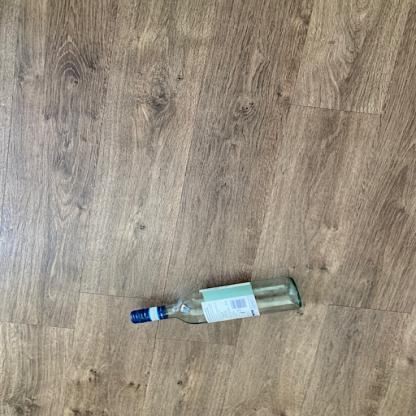trash: (124, 273, 309, 334)
